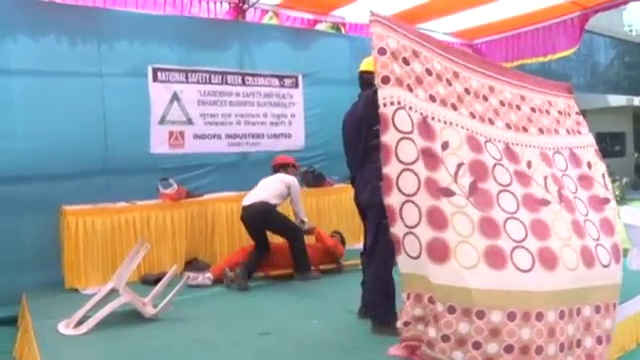helmet: (354, 52, 379, 73), (270, 152, 298, 169)
helmet_off: (329, 229, 349, 252)
helmet_on: (353, 50, 380, 92), (269, 152, 299, 177)
person: (342, 52, 402, 334), (236, 153, 323, 291), (192, 229, 349, 282)
